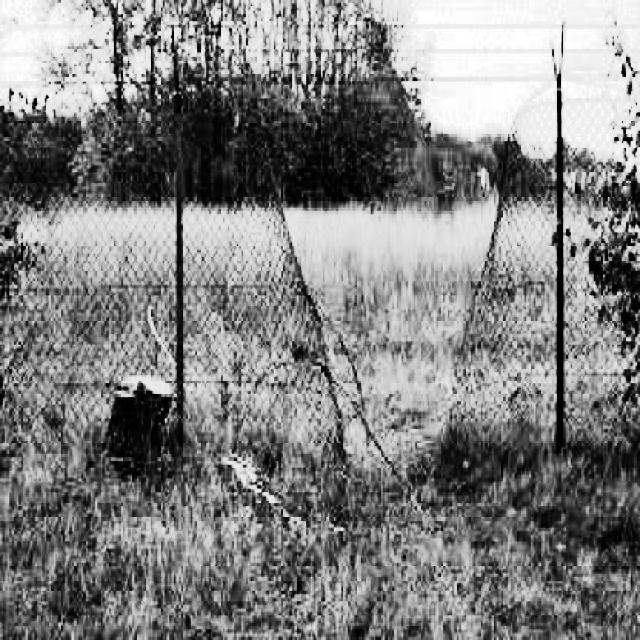anomaly-fence: (227, 50, 628, 502)
